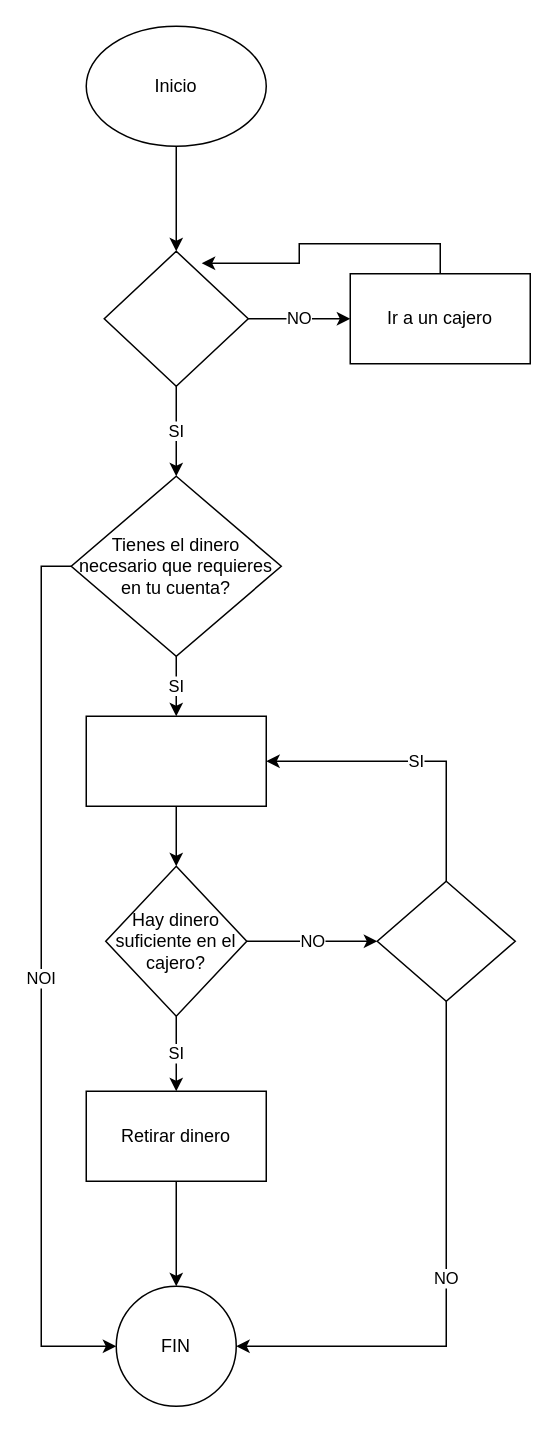
Image size: 557x1433. Some labels were removed from this diagram. The shapes that lost their labels are listed below. From the top down, each one's centre as x and y in pixels, then its label:
At pixel 175 318: "Estás en un cajero?".
At pixel 175 760: "Solicitar cantidad deseada".
At pixel 445 940: "Solicitar otra cantidad?".
